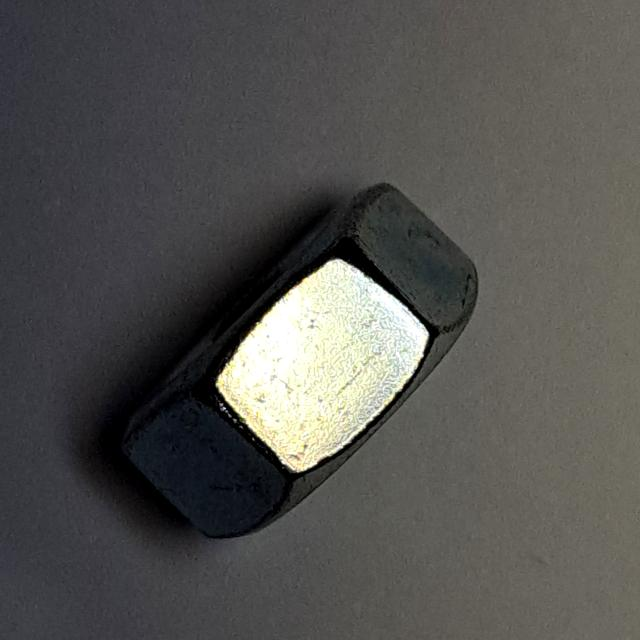Side_Excellent: (100, 171, 494, 558)
